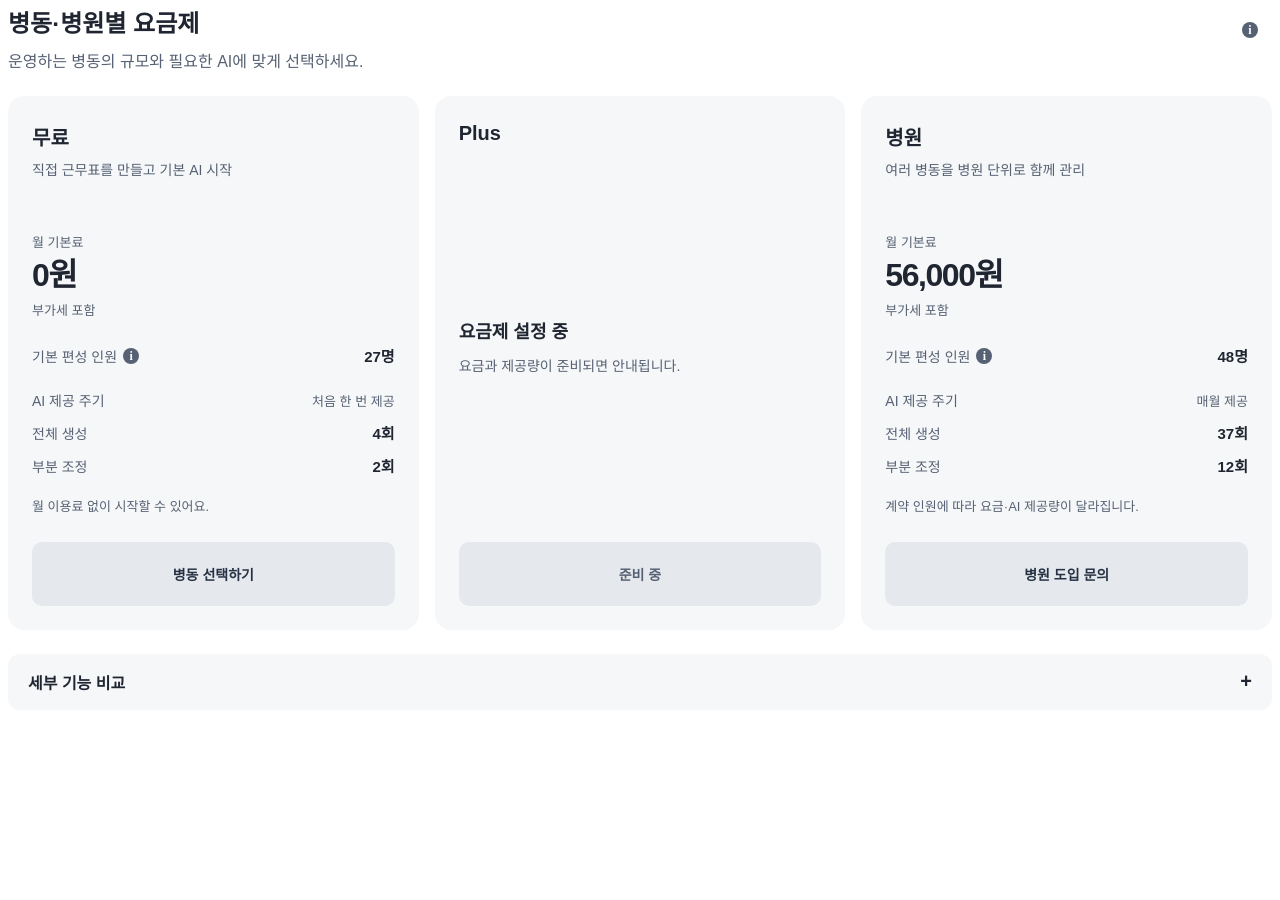
Test case: workspace plans › shows published plans while an individual policy is still being configured
The width and height of the screenshot is (1280, 900).
Expected: the text "56,000원" is shown, [885,257,1003,293]
Expected: the text "요금제 설정 중" is shown, [459,322,568,342]
What coordinates should you click on to do the following:
click the heading "세부 기능 비교"
I would click on:
 (77, 683)
Its box is [28,670,1252,693].
(page scrolled)
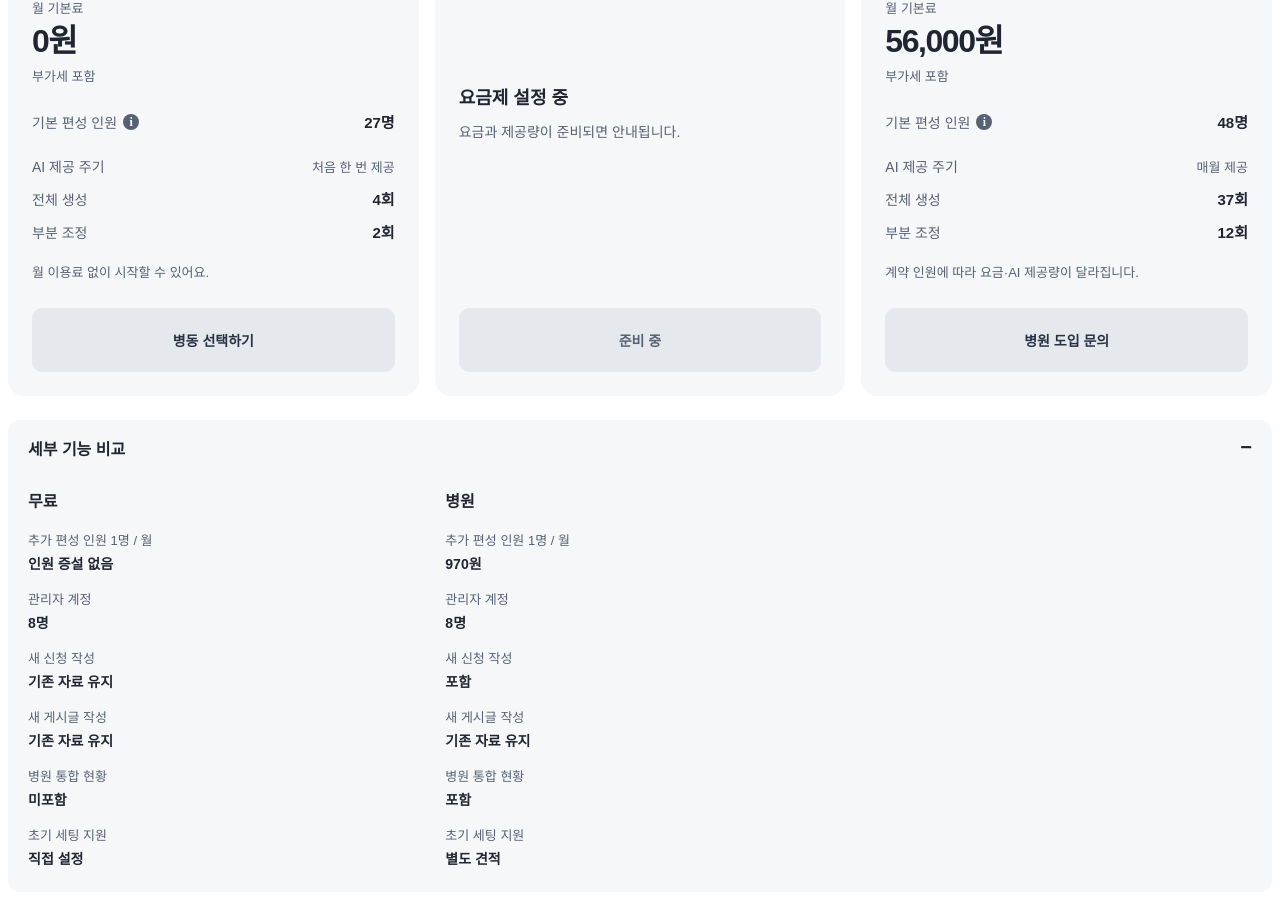
Now the element named "무료 세부 기능" is shown, box [28,493,153,867]
